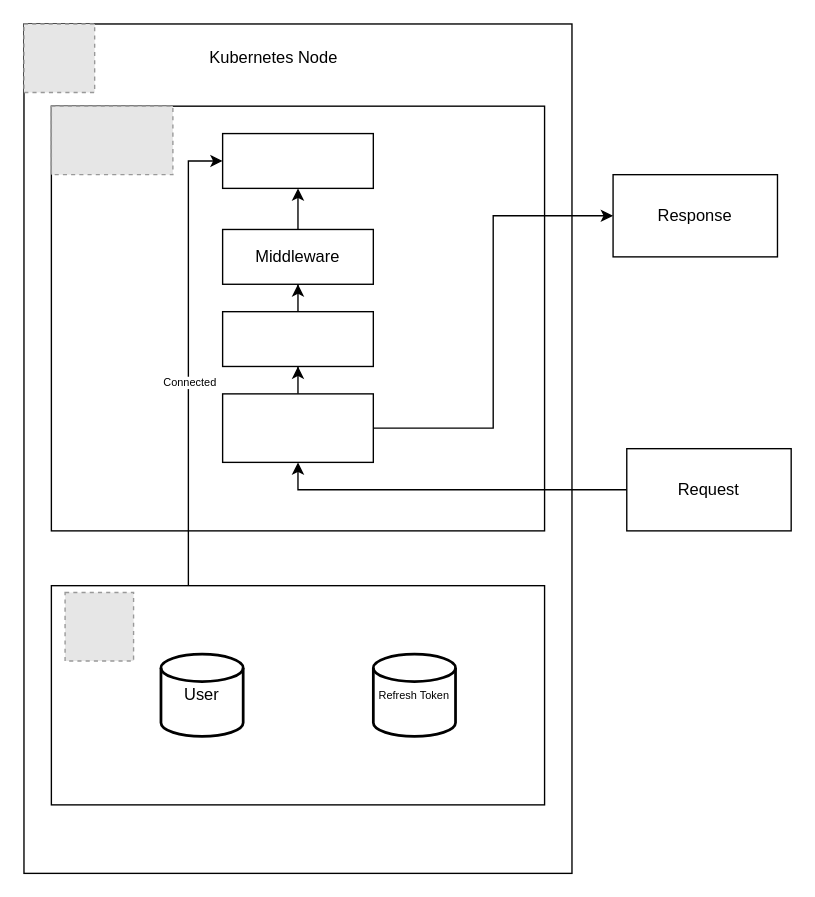
The diagram is 815 pixels wide and 897 high, and some of its shapes have lost their labels. Grey dashed boxes stand in for pictures. The centre of each missing label's shape, as x and y in pixels:
"Controller" belongs at point 297,338.
"Express" belongs at point 297,427.
"Model" belongs at point 297,160.
